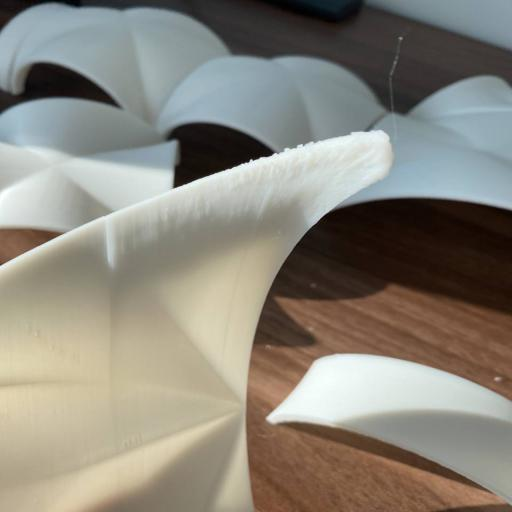blobs: (282, 147, 292, 154), (248, 156, 256, 164), (276, 229, 284, 236), (270, 152, 279, 158), (295, 144, 304, 150), (308, 140, 316, 146), (350, 131, 358, 136)
